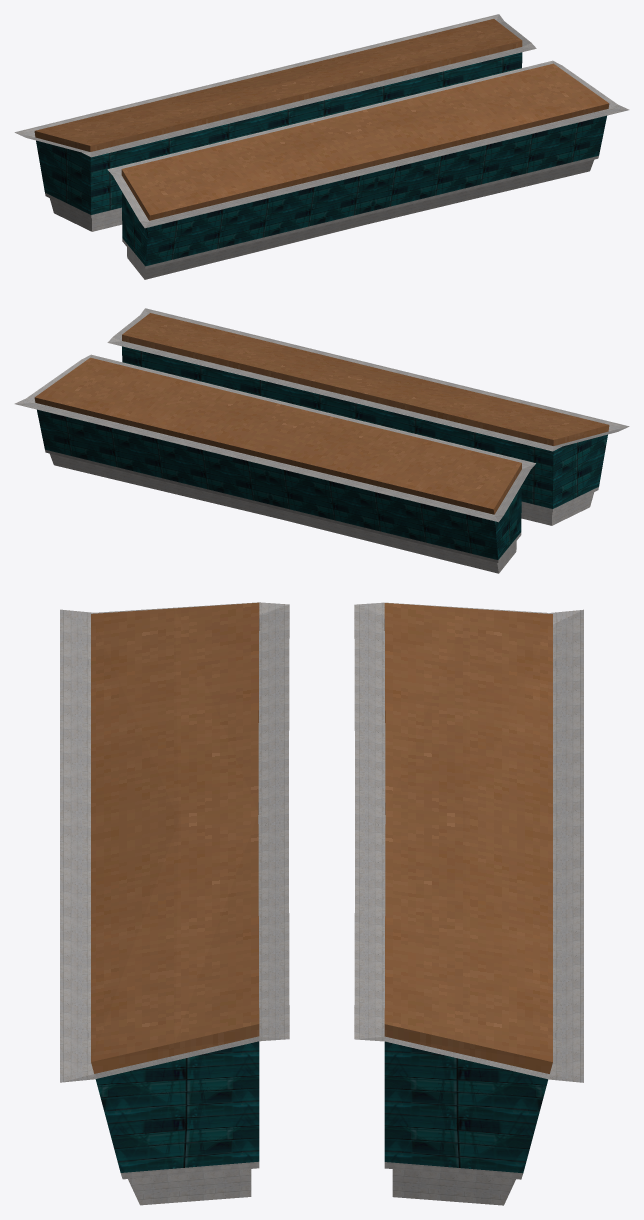
Rendered from wait2.obj.
3 renders of one model, top to bottom at view 1: azimuth 30°, elevation 25°; view 2: azimuth 150°, elevation 25°; view 3: azimuth 270°, elevation 25°, orthographic. The views are drawn at different scales.
Bounding box in the file's own units: 173 × 30.13 × 81.06.
